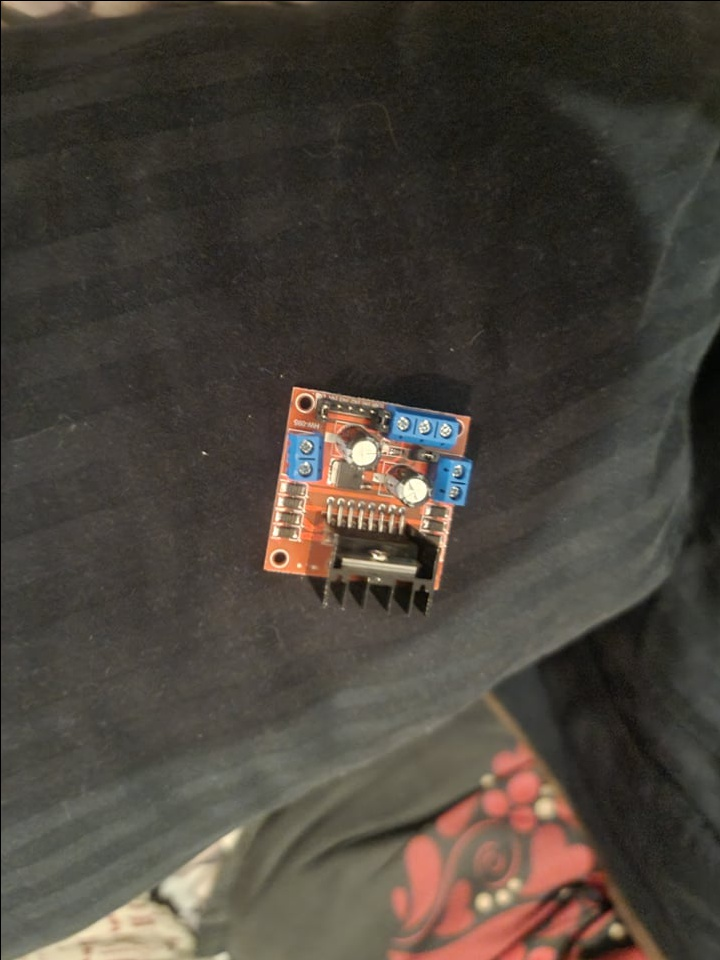MOTOR: (261, 380, 474, 619)
